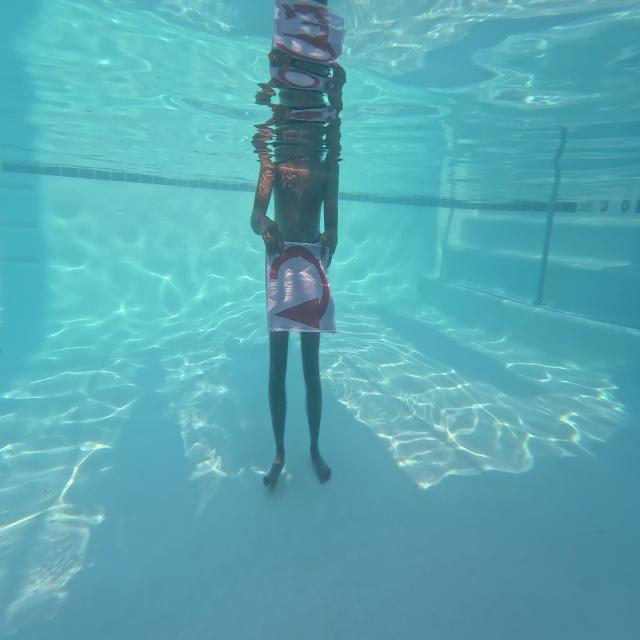red_side: (261, 245, 338, 339)
